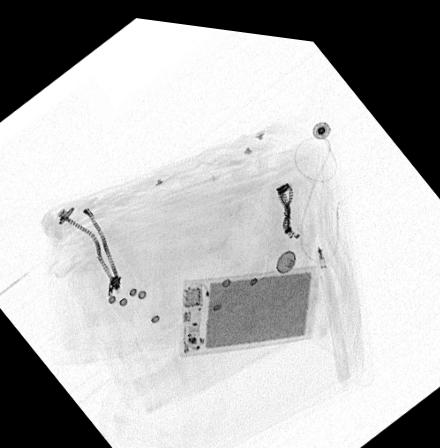Powerbank: (176, 255, 317, 352)
